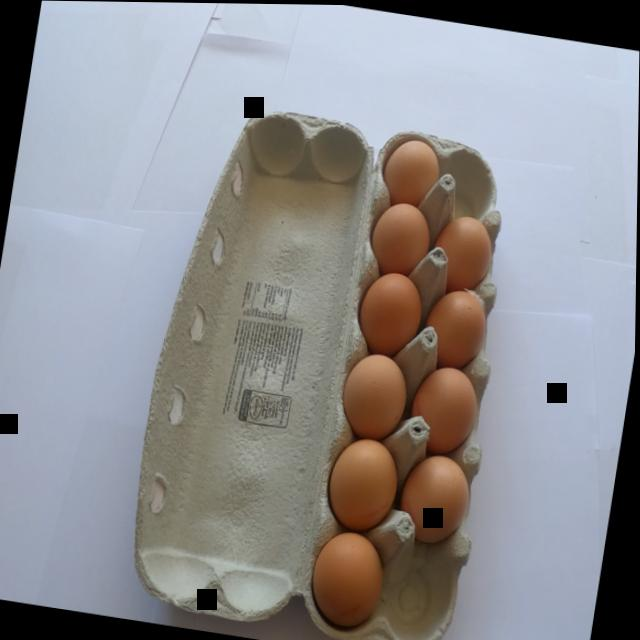Egg: (108, 70, 541, 640), (307, 520, 391, 636), (392, 446, 481, 553), (323, 423, 404, 531), (374, 112, 463, 210), (409, 362, 494, 457), (339, 340, 417, 434), (352, 261, 433, 351), (422, 281, 500, 371), (433, 207, 512, 291), (367, 198, 443, 272)
